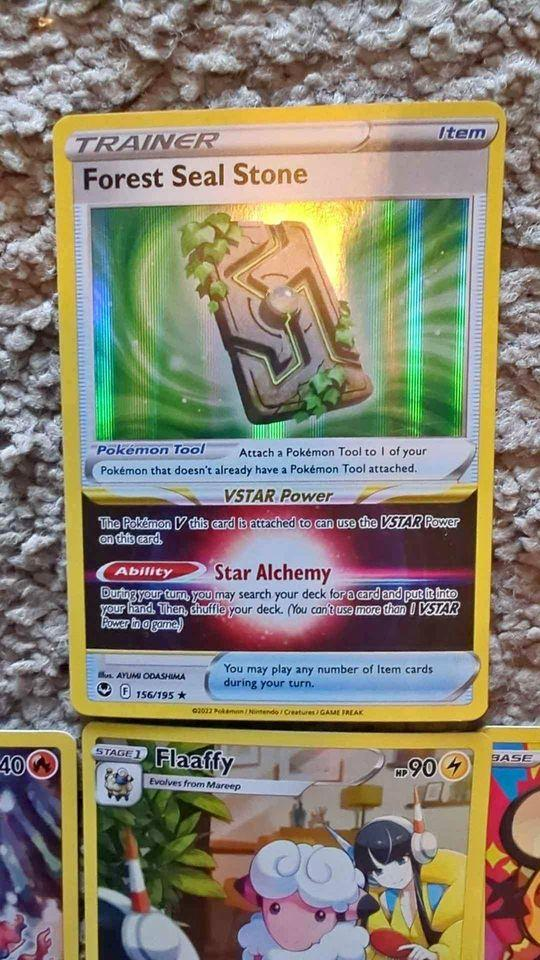card: (51, 99, 507, 724), (82, 720, 497, 960)
